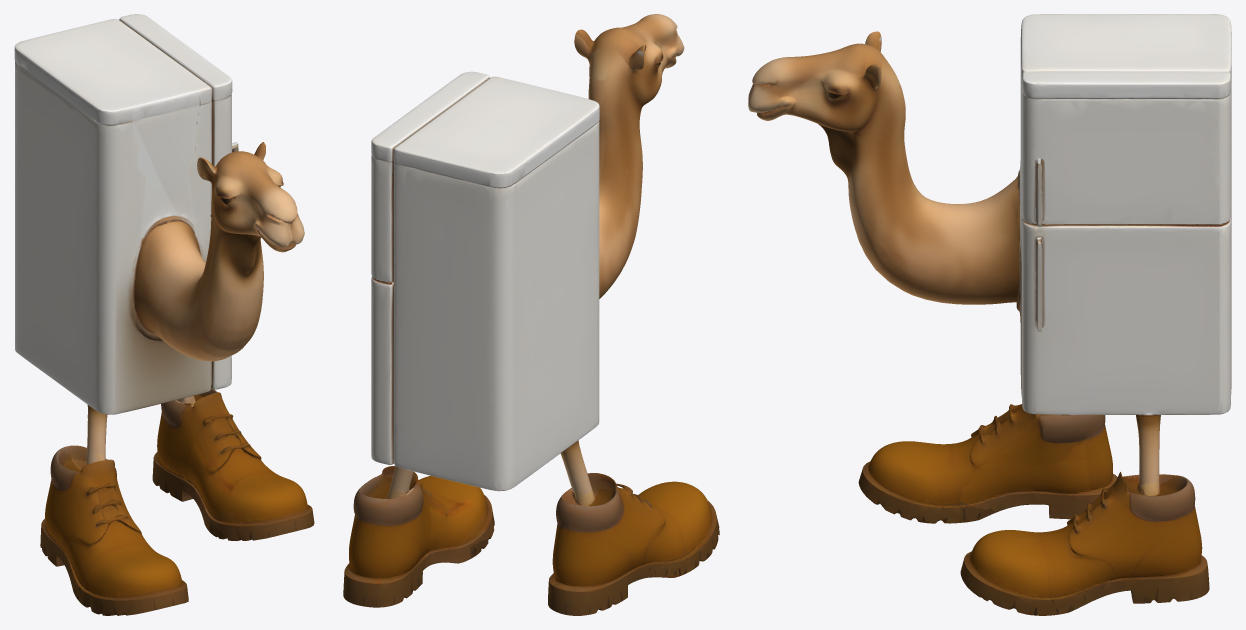
File: frigo_camello_buffo_fortello.glb
3 renders of one model, left to right at view 1: azimuth 30°, elevation 25°; view 2: azimuth 150°, elevation 25°; view 3: azimuth 270°, elevation 25°, orthographic. The views are drawn at different scales.
Parts seen in each view (by area): view 1: Object_2; view 2: Object_2; view 3: Object_2.
Part boxes in pixels (left/top/right/bottom): Object_2: left=14, top=14, right=314, bottom=615; Object_2: left=343, top=14, right=719, bottom=615; Object_2: left=748, top=14, right=1231, bottom=615.
Bounding box in the file's own units: 1.11 × 1.9 × 1.67.
Materials: 1 (1 with a texture image).
